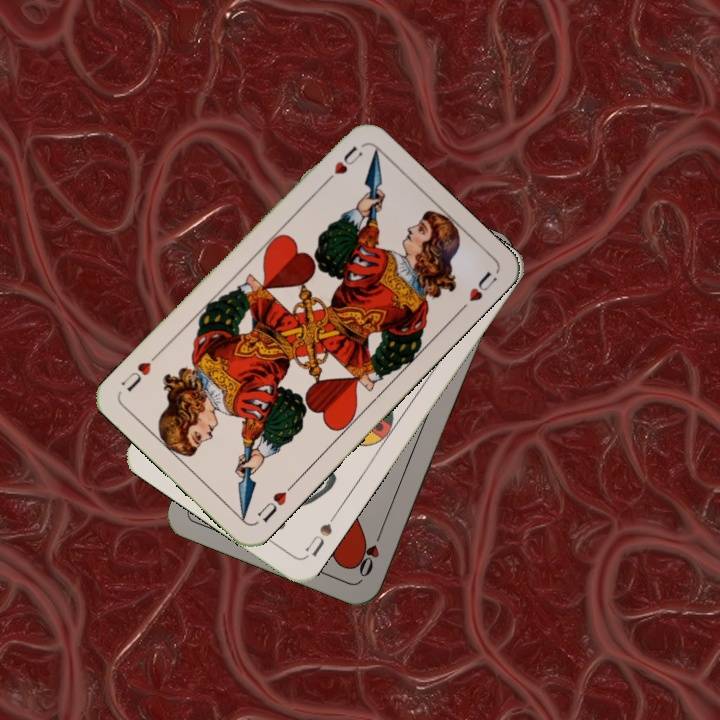HO: (352, 524, 386, 580)
HU: (318, 142, 366, 188), (253, 479, 297, 525)
SU: (301, 508, 340, 560)
